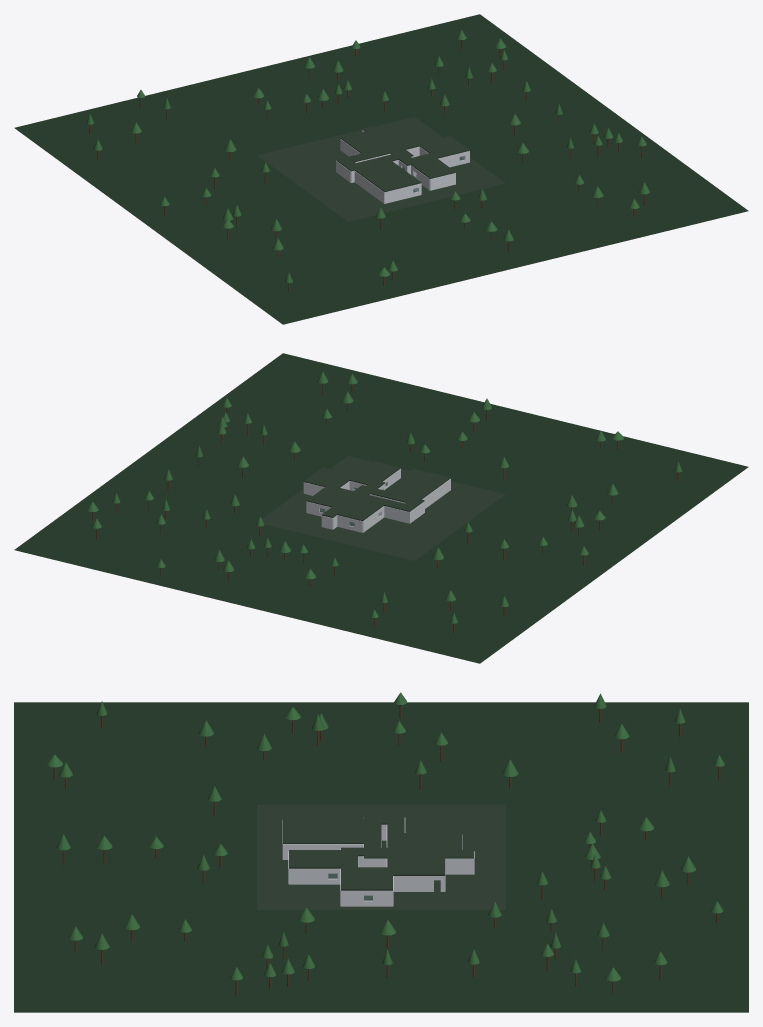
Rendered from level-loop.glb.
3 renders of one model, top to bottom at view 1: azimuth 30°, elevation 25°; view 2: azimuth 150°, elevation 25°; view 3: azimuth 270°, elevation 25°, orthographic. The views are drawn at different scales.
Visible parts, largest first — view 1: svg-stage; view 2: svg-stage; view 3: svg-stage.
Part boxes in pixels (left/top/right/bottom): svg-stage: left=14, top=14, right=748, bottom=324; svg-stage: left=14, top=353, right=748, bottom=663; svg-stage: left=14, top=692, right=748, bottom=1012.
Size of the model in its own units: 127 by 6.07 by 127.
